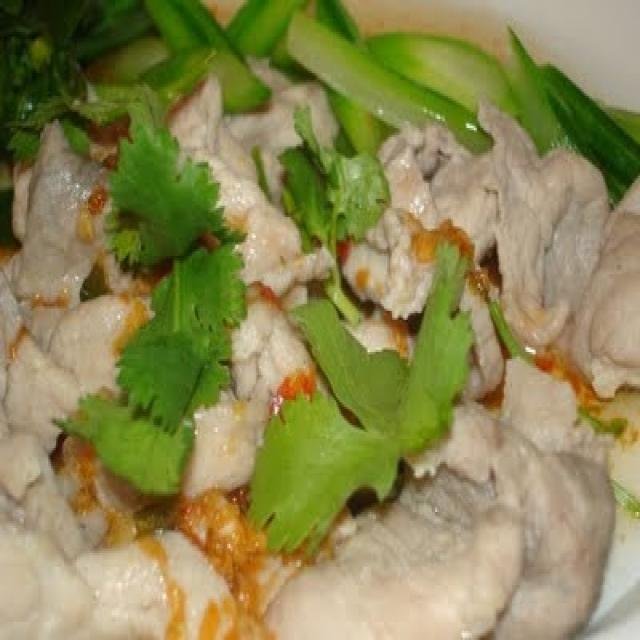猪肉菜式: (21, 18, 616, 620)
